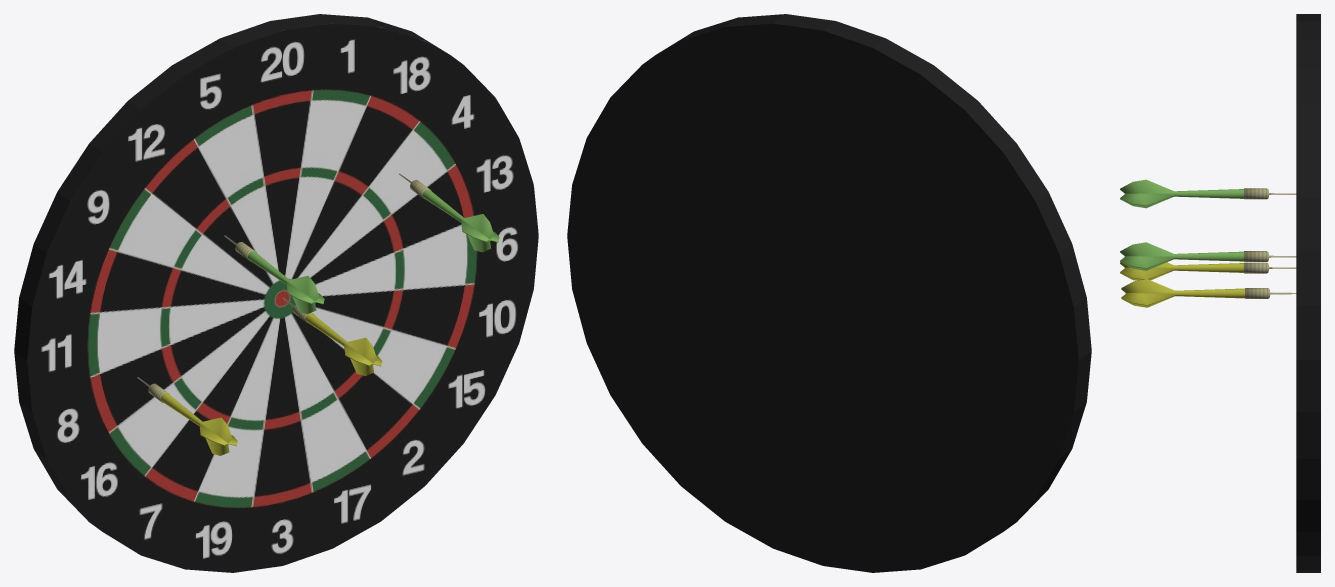
The model's file is sweethome3d-scopia-dart-game-154.glb.
The picture shows the model from 3 angles, left to right: view 1: azimuth 30°, elevation 25°; view 2: azimuth 150°, elevation 25°; view 3: azimuth 270°, elevation 25°; orthographic projection. The views are drawn at different scales.
Parts seen in each view (by area): view 1: Cylinder, Cylinder.004, Cylinder.003, Cylinder.002, Cylinder.001; view 2: Cylinder; view 3: Cylinder, Cylinder.004, Cylinder.001, Cylinder.002, Cylinder.003.
Part boxes in pixels (<box>): Cylinder: <box>14,14,538,572</box>; Cylinder.004: <box>224,235,324,314</box>; Cylinder.003: <box>137,377,237,455</box>; Cylinder.002: <box>399,173,499,252</box>; Cylinder.001: <box>282,297,382,375</box>; Cylinder: <box>567,14,1091,572</box>; Cylinder: <box>1296,14,1320,572</box>; Cylinder.004: <box>1120,179,1296,208</box>; Cylinder.001: <box>1121,279,1296,307</box>; Cylinder.002: <box>1120,242,1296,270</box>; Cylinder.003: <box>1120,262,1296,280</box>.
Bounding box in the file's own units: 45.3 × 45.3 × 16.26.
4 materials, 2 textured.
